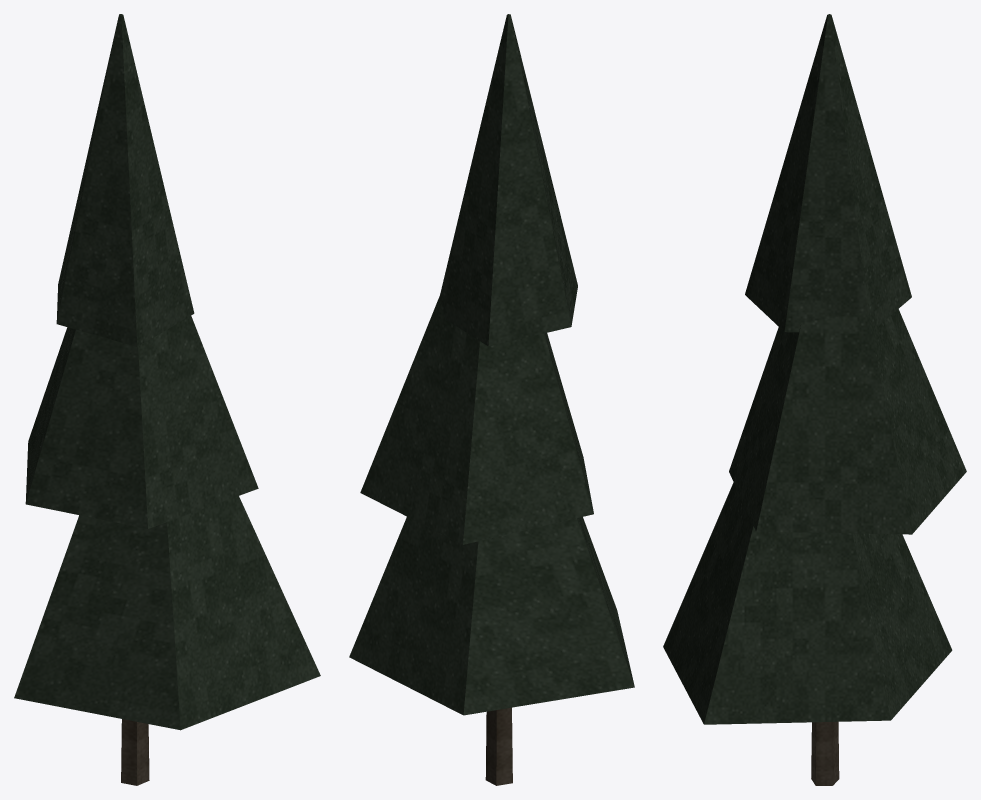
The model's file is ENV_F_Spruce_2.fbx.
The picture shows the model from 3 angles, left to right: view 1: azimuth 30°, elevation 25°; view 2: azimuth 150°, elevation 25°; view 3: azimuth 270°, elevation 25°; orthographic projection.
Visible parts, largest first — view 1: PL_ENV_F_Spruce_2; view 2: PL_ENV_F_Spruce_2; view 3: PL_ENV_F_Spruce_2.
Part boxes in pixels (left/top/right/bottom): PL_ENV_F_Spruce_2: left=14, top=14, right=320, bottom=785; PL_ENV_F_Spruce_2: left=349, top=14, right=634, bottom=785; PL_ENV_F_Spruce_2: left=663, top=14, right=966, bottom=785.
Bounding box in the file's own units: 449 × 1300 × 471.
2 materials, 2 textured.
